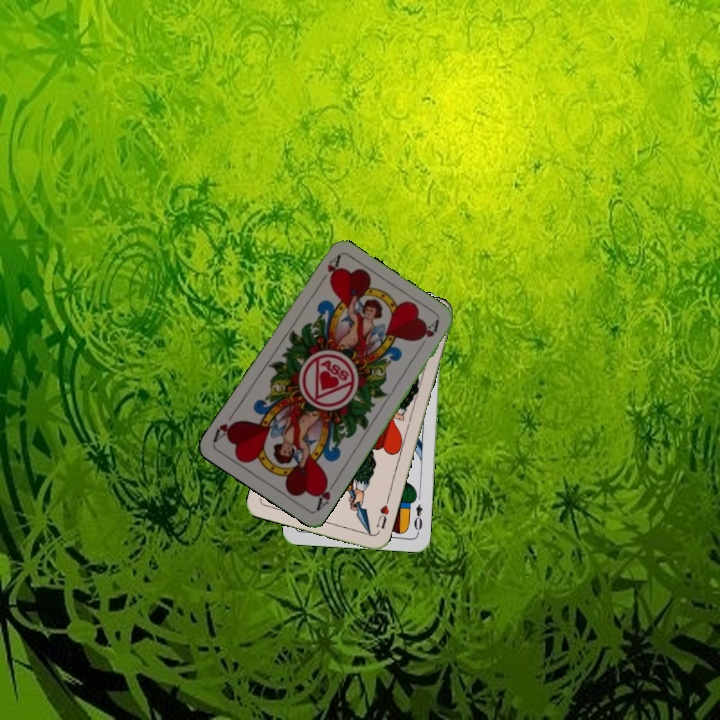EO: (410, 500, 425, 536)
HA: (312, 474, 339, 513), (315, 252, 343, 288)
HU: (372, 495, 392, 531)
